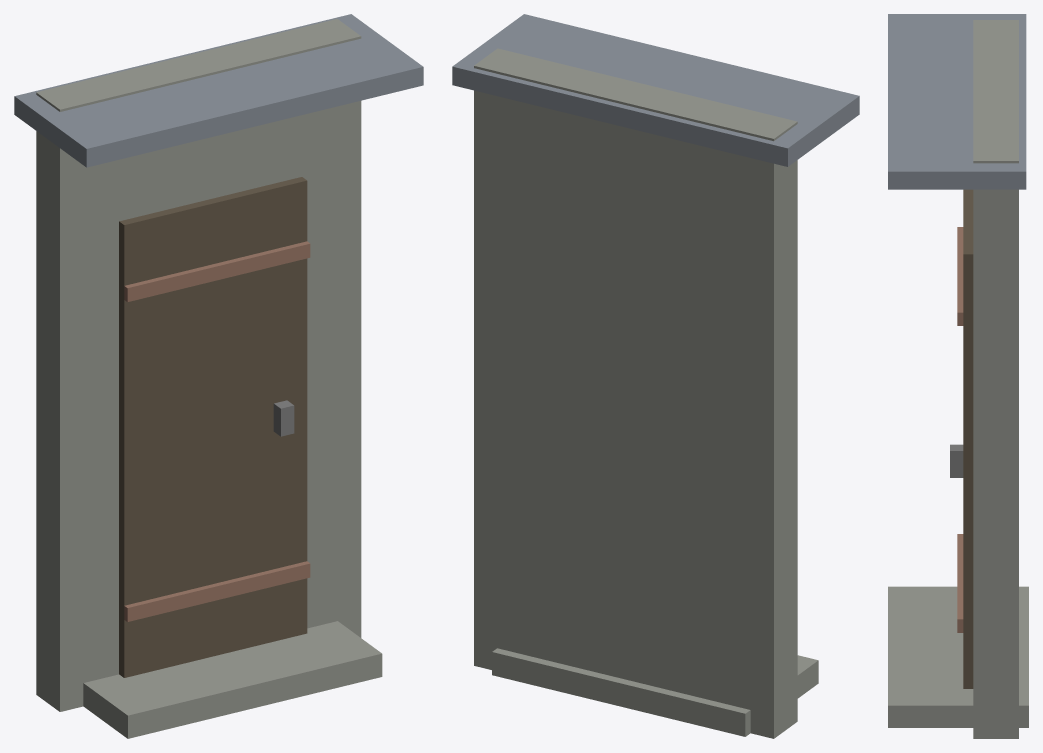
File: entrance.fbx
3 renders of one model, left to right at view 1: azimuth 30°, elevation 25°; view 2: azimuth 150°, elevation 25°; view 3: azimuth 270°, elevation 25°, orthographic. The views are drawn at different scales.
Parts seen in each view (by area): view 1: a2015/500/entrance; view 2: a2015/500/entrance; view 3: a2015/500/entrance.
Boxes of the visible parts, x1,y1,x2,y2 form: a2015/500/entrance: (14, 14, 423, 738); a2015/500/entrance: (452, 14, 859, 738); a2015/500/entrance: (888, 14, 1028, 738).
Bounding box in the file's own units: 1.51 × 2.58 × 0.57.
